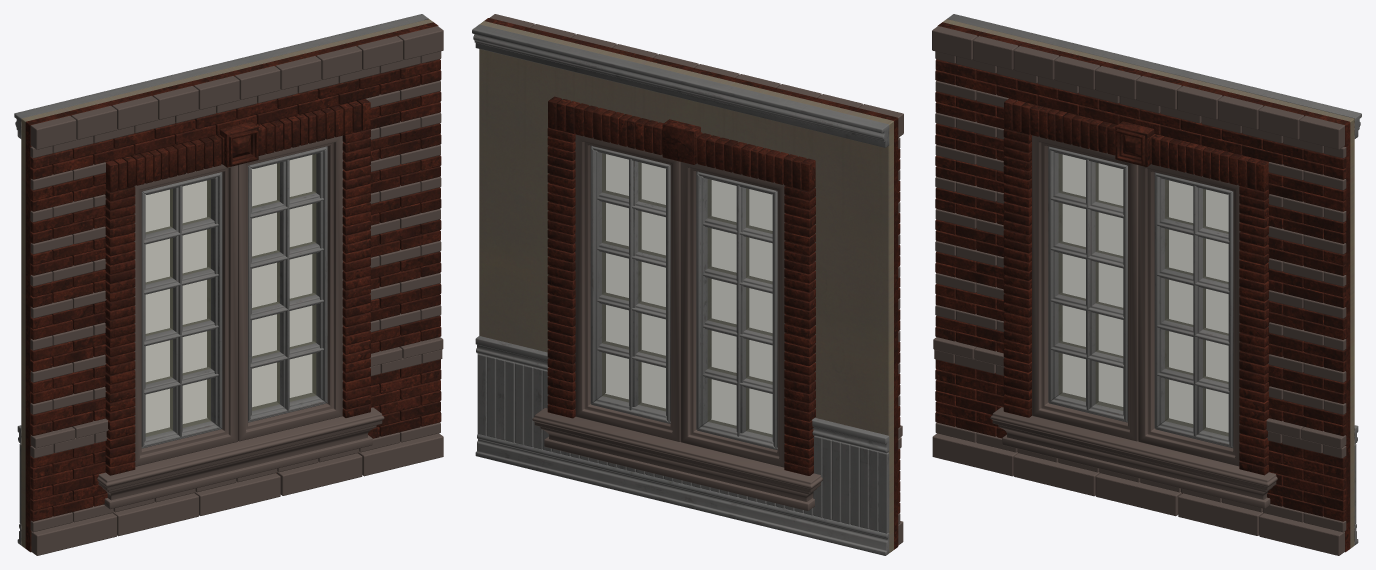
Rendered from SK4 WINDOW 2.fbx.
3 renders of one model, left to right at view 1: azimuth 30°, elevation 25°; view 2: azimuth 150°, elevation 25°; view 3: azimuth 330°, elevation 25°, orthographic.
Visible parts, largest first — view 1: SK4 WINDOW 2.008; view 2: SK4 WINDOW 2.008; view 3: SK4 WINDOW 2.008.
Part boxes in pixels (x1=…): SK4 WINDOW 2.008: x1=14, y1=14, x2=443, y2=555; SK4 WINDOW 2.008: x1=472, y1=14, x2=903, y2=555; SK4 WINDOW 2.008: x1=932, y1=14, x2=1361, y2=555.
Size of the model in its own units: 400 by 400 by 57.36.
